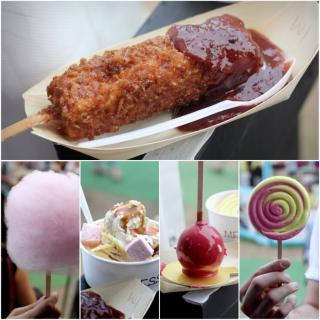Ice cream: (79, 196, 165, 274), (208, 190, 240, 219)
